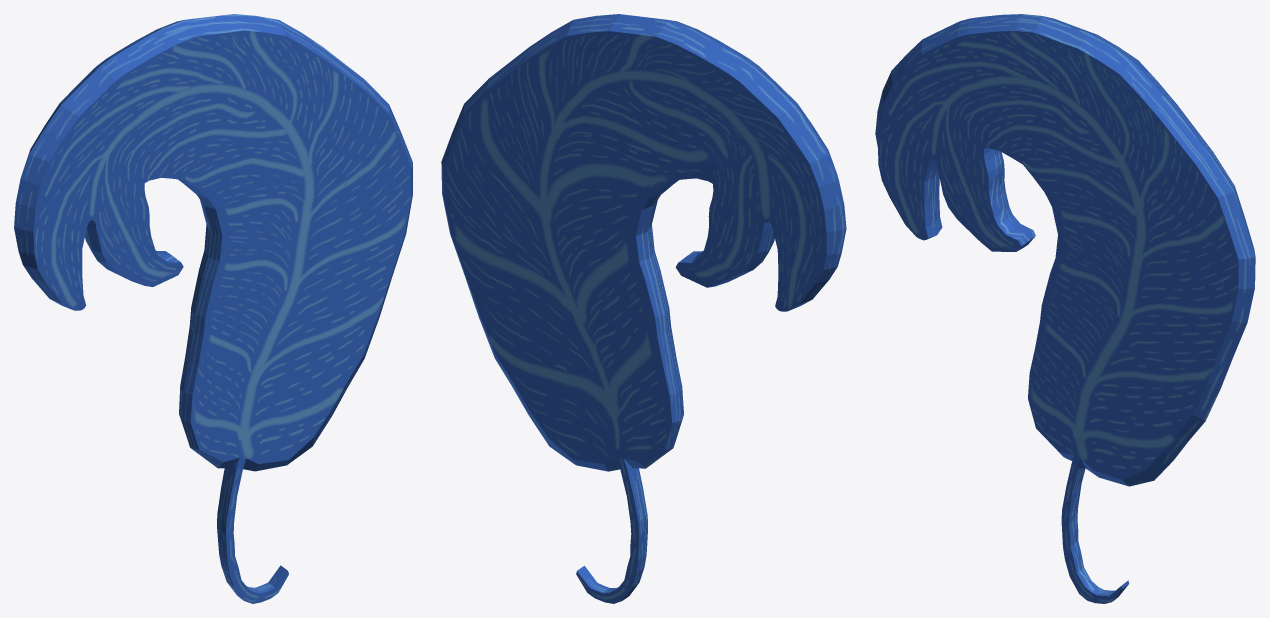
File: pena da invisibilidade.fbx
The picture shows the model from 3 angles, left to right: view 1: azimuth 30°, elevation 25°; view 2: azimuth 150°, elevation 25°; view 3: azimuth 330°, elevation 25°; orthographic projection. The views are drawn at different scales.
Parts seen in each view (by area): view 1: Plane.002; view 2: Plane.002; view 3: Plane.002.
Boxes of the visible parts, box(x1,y1,x2,y2) form: Plane.002: box(14, 14, 412, 603); Plane.002: box(441, 14, 846, 603); Plane.002: box(875, 14, 1255, 603).
Size of the model in its own units: 82.62 by 117 by 7.39.
